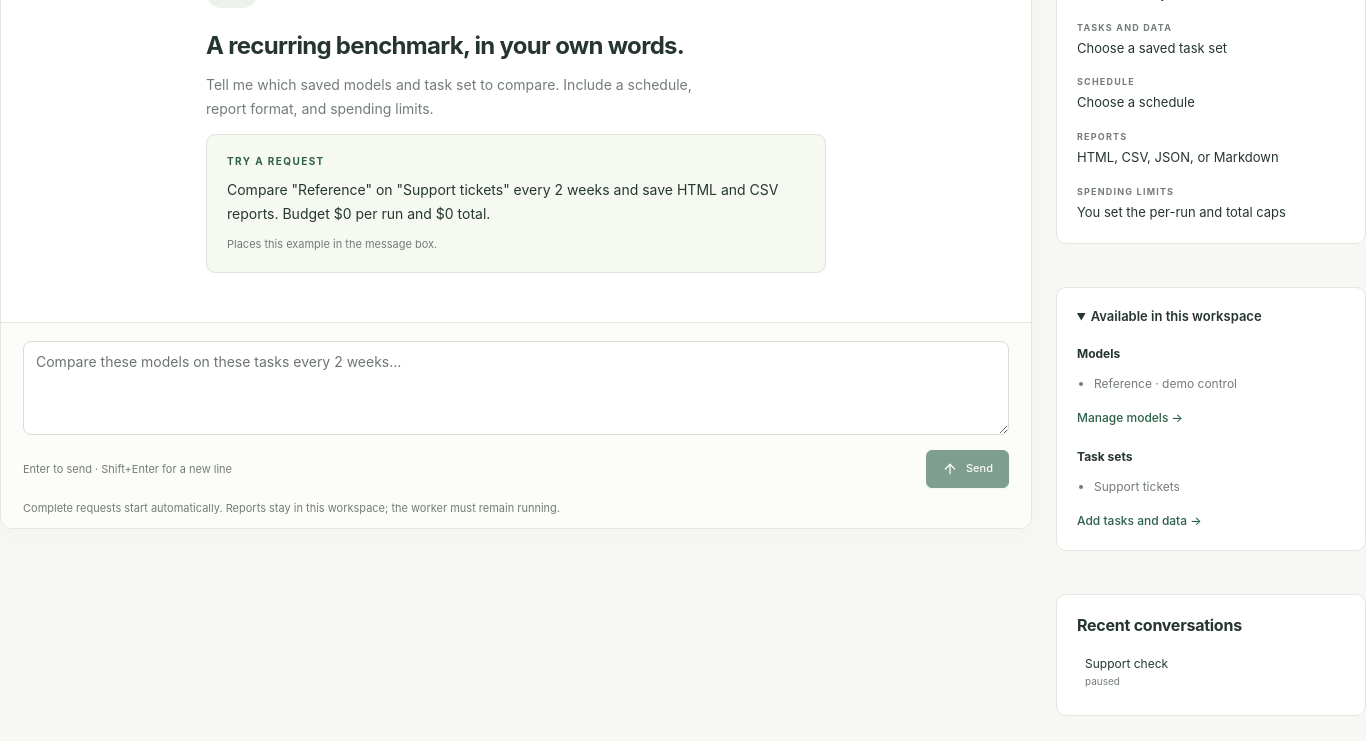
Scenario: conversational benchmark setup › surfaces retained scheduling and report errors
(page scrolled)
Click the button "Support check paused": x=1127, y=664 [1077, 648, 1345, 695]
(page scrolled)
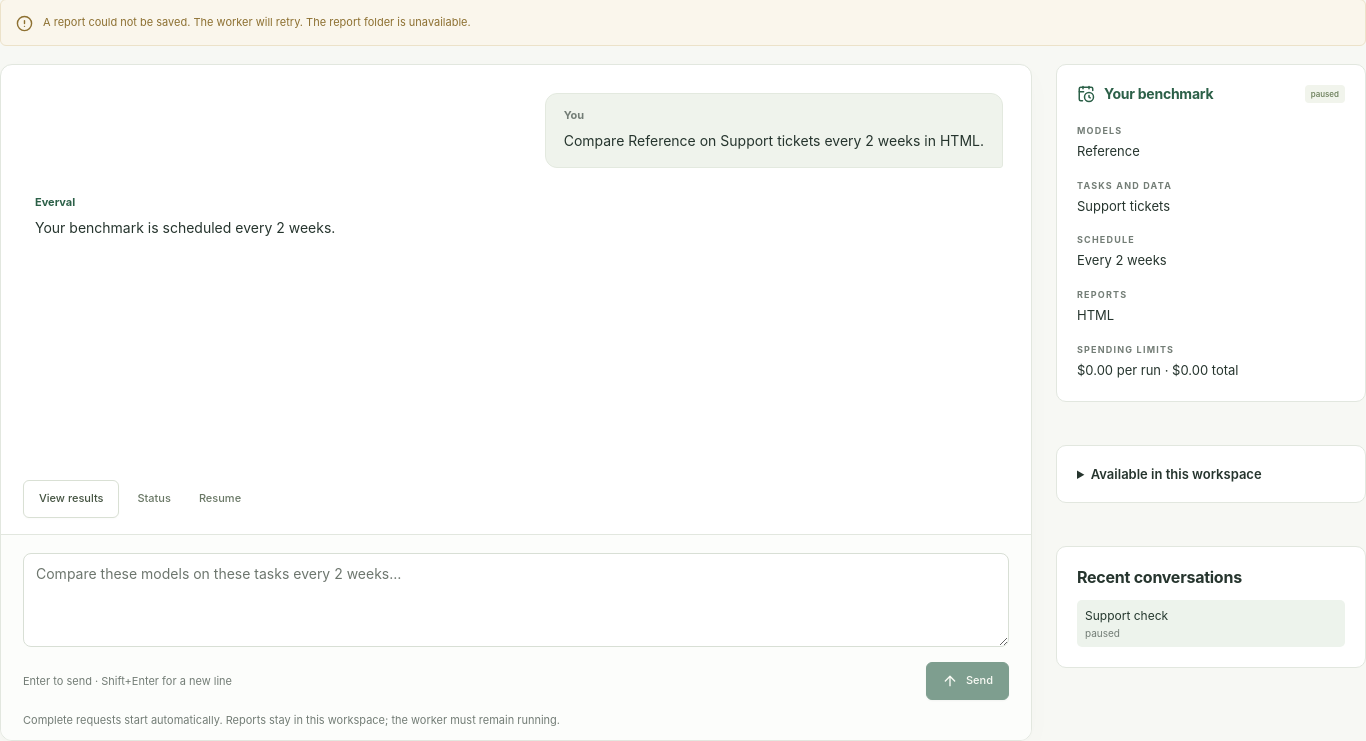
Result: the text "The report folder is unavailable" is shown at [306, 15, 471, 29]
Result: the button "Resume" is shown at [189, 480, 251, 518]
